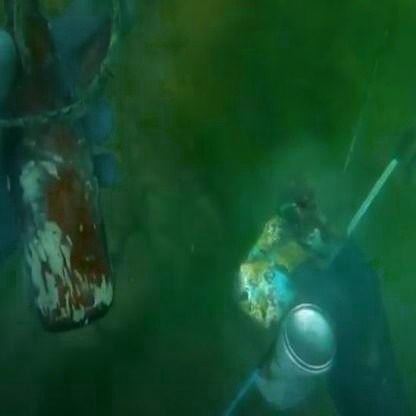can: (257, 298, 317, 405)
pbottle: (10, 22, 116, 333)
